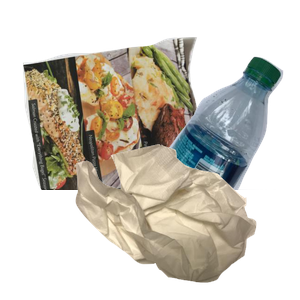glass: (96, 190, 230, 300)
paper: (20, 34, 221, 214)
plastic: (142, 54, 300, 234)
trash: (73, 142, 300, 300)
